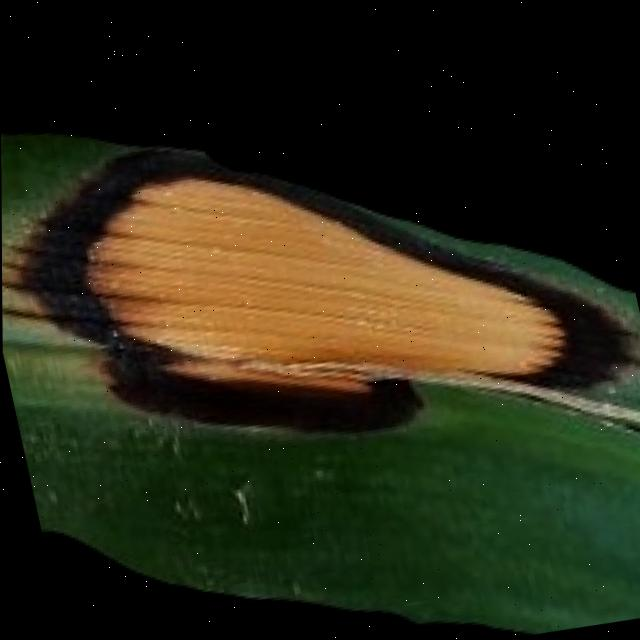mite: (39, 447, 545, 640), (352, 594, 545, 640), (157, 463, 266, 538), (442, 607, 542, 640), (218, 470, 259, 522), (426, 614, 499, 640), (163, 483, 201, 522)
